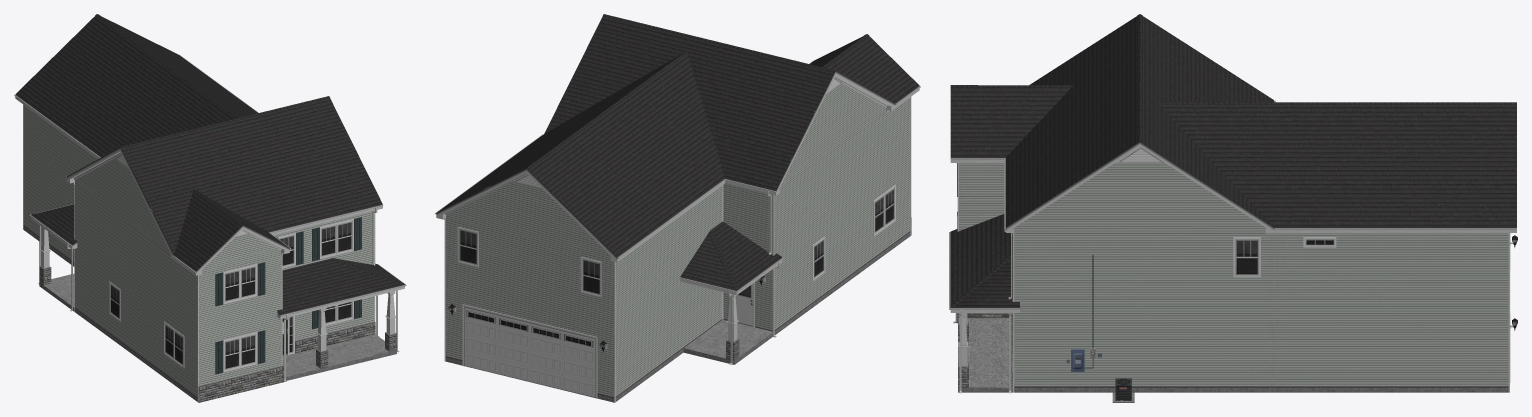
3 views of the same model, side by side, from view 1: azimuth 30°, elevation 25°; view 2: azimuth 150°, elevation 25°; view 3: azimuth 270°, elevation 25° (orthographic). The views are drawn at different scales.
Visible parts, largest first — view 1: Object_2; view 2: Object_2; view 3: Object_2.
Part boxes in pixels (<box>): Object_2: <box>14,14,406,402</box>; Object_2: <box>435,14,920,402</box>; Object_2: <box>949,14,1517,402</box>.
Size of the model in its own units: 1133 by 991 by 2010.
Materials: 1 (1 with a texture image).
